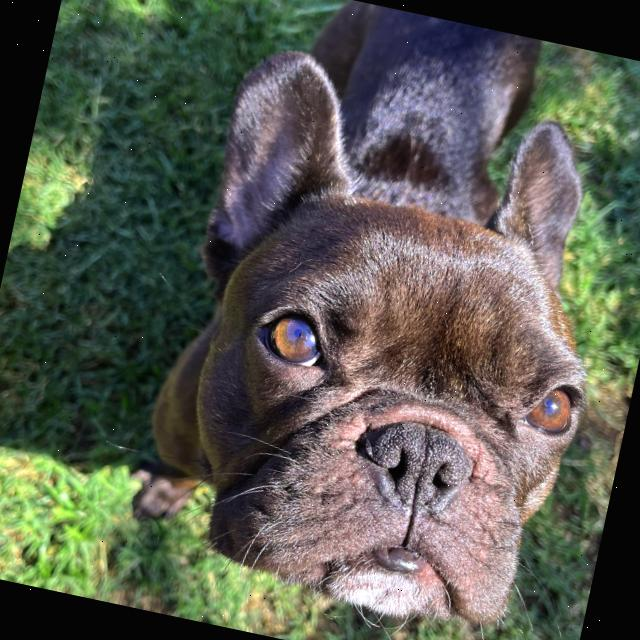french_bulldog_dog: (94, 24, 640, 640)
